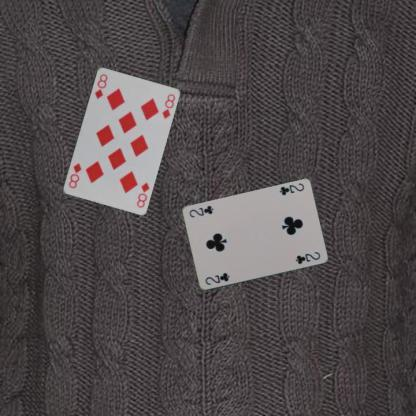2c: (276, 181, 306, 197), (202, 270, 231, 286)
8d: (92, 71, 108, 100), (134, 180, 150, 209)
